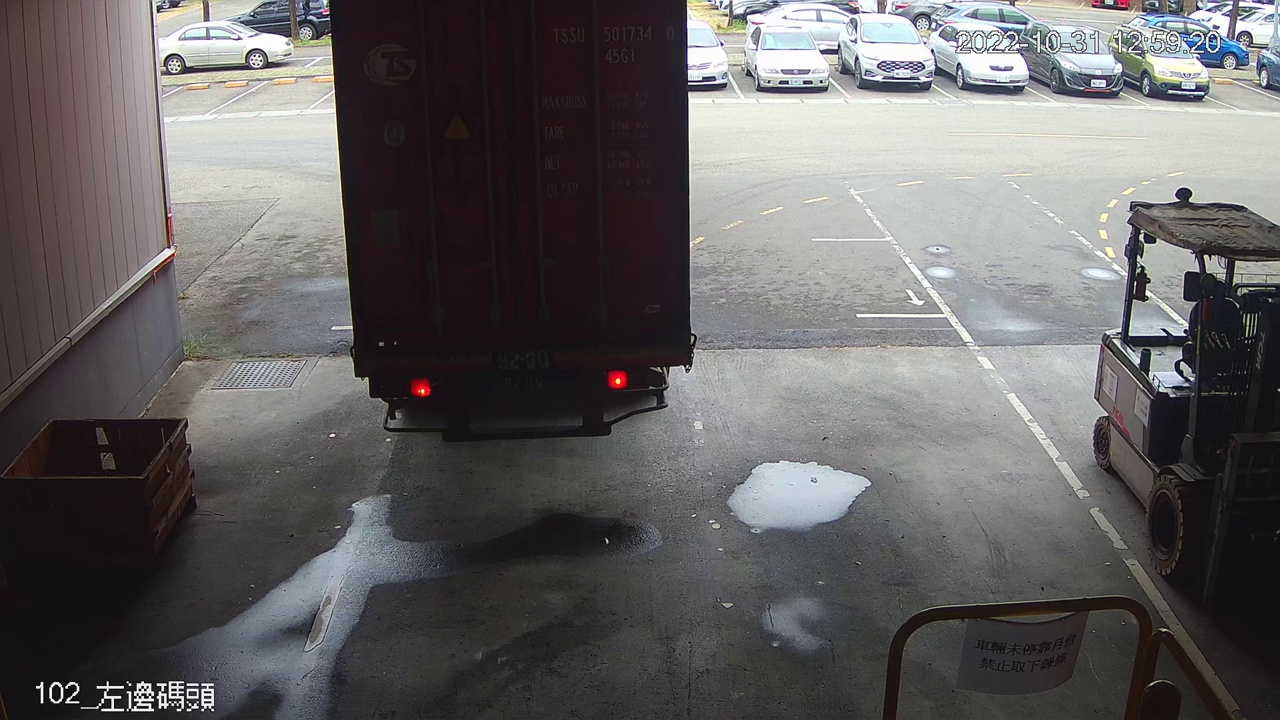container: (546, 23, 680, 69)
